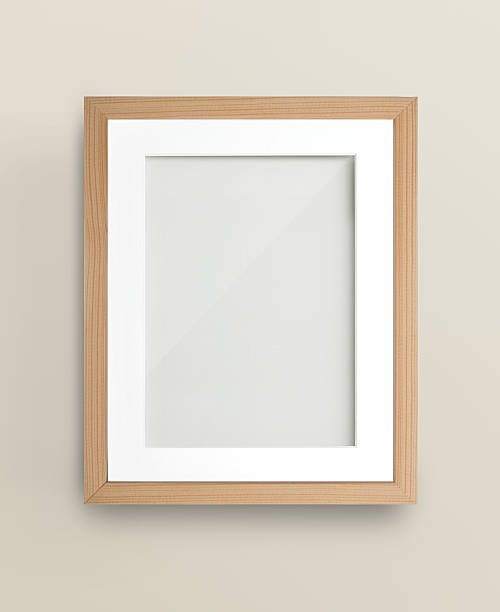dikdortgen: (82, 95, 416, 505)
